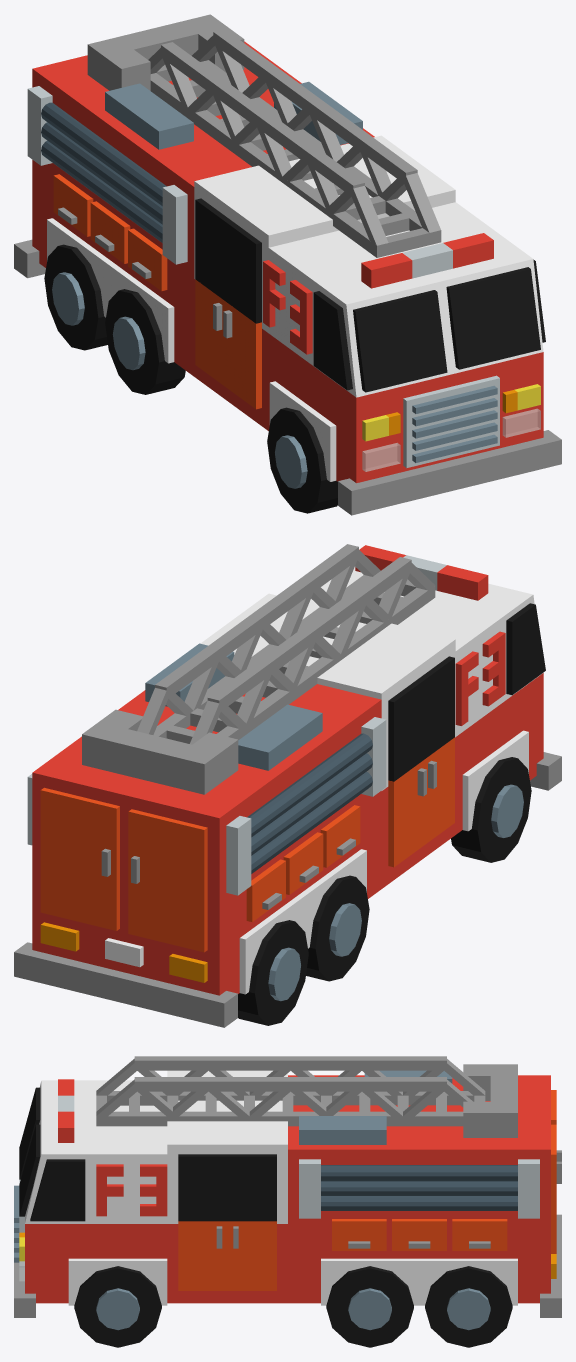
The model's file is firetruck.glb.
3 renders of one model, top to bottom at view 1: azimuth 30°, elevation 25°; view 2: azimuth 150°, elevation 25°; view 3: azimuth 270°, elevation 25°, orthographic. The views are drawn at different scales.
Visible parts, largest first — view 1: group519370239, group185491775, group1945329526, group175345217, group1160962185, group296302351, group1529591549, group1738684917, group1826006281, group82081570, group1892506739, group57486055 (+47 smaller); view 2: group519370239, group139840733, group1681719414, group175345217, group798227192, group185491775, group1945329526, group90837543, group1738684917, group1826006281, group1892506739, group82081570 (+40 smaller); view 3: group519370239, group1945329526, group185491775, group2066065393, group1949654852, group175345217, group1892506739, group82081570, group1884237432, group1267943645, group890221610, group1337428516 (+38 smaller).
Boxes of the visible parts, x1,y1,x2,y2 form: group519370239: [32, 41, 374, 376]; group185491775: [194, 279, 543, 483]; group1945329526: [268, 202, 543, 397]; group175345217: [194, 135, 455, 332]; group1160962185: [446, 267, 540, 369]; group296302351: [353, 290, 447, 392]; group1529591549: [338, 430, 561, 515]; group1738684917: [195, 198, 261, 323]; group1826006281: [195, 279, 261, 409]; group82081570: [213, 29, 417, 184]; group1892506739: [161, 42, 364, 197]; group57486055: [150, 73, 388, 257]; group519370239: [32, 684, 381, 995]; group139840733: [128, 809, 207, 952]; group1681719414: [40, 787, 119, 930]; group175345217: [200, 593, 455, 790]; group798227192: [14, 942, 237, 1027]; group185491775: [381, 673, 543, 888]; group1945329526: [309, 567, 543, 736]; group90837543: [82, 722, 221, 794]; group1738684917: [388, 656, 454, 781]; group1826006281: [388, 737, 454, 867]; group1892506739: [207, 557, 411, 712]; group82081570: [155, 544, 358, 699]; group519370239: [288, 1075, 550, 1303]; group1945329526: [25, 1080, 167, 1223]; group185491775: [25, 1224, 287, 1303]; group2066065393: [178, 1221, 276, 1290]; group1949654852: [178, 1154, 276, 1221]; group175345217: [167, 1070, 287, 1223]; group1892506739: [134, 1056, 446, 1070]; group82081570: [134, 1077, 446, 1091]; group1884237432: [321, 1258, 517, 1305]; group1267943645: [74, 1266, 161, 1347]; group890221610: [326, 1266, 413, 1347]; group1337428516: [425, 1266, 512, 1347].
Size of the model in its own units: 3.04 by 3.84 by 8.
